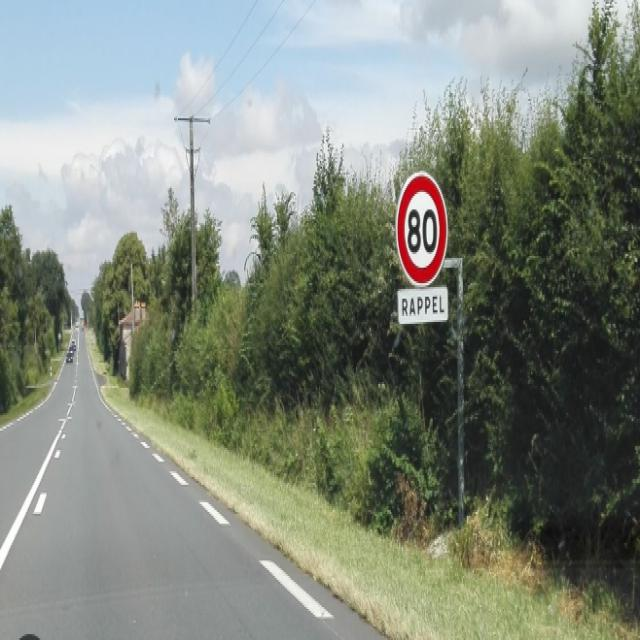speed_80: (396, 170, 448, 286)
